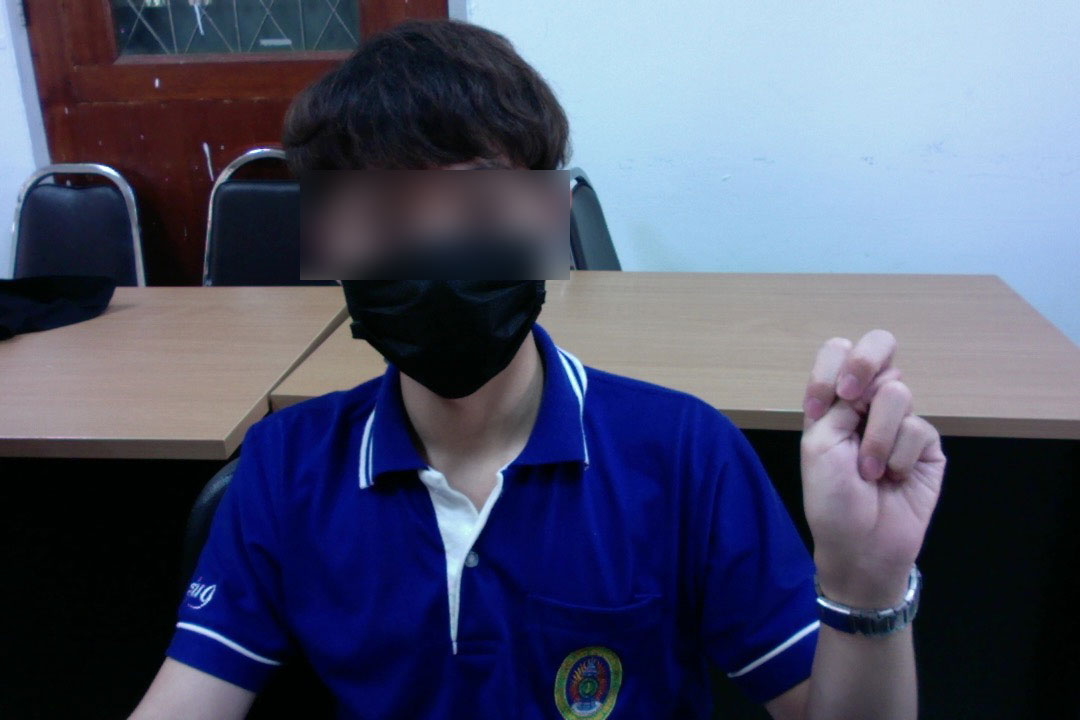nor: (788, 318, 953, 573)
